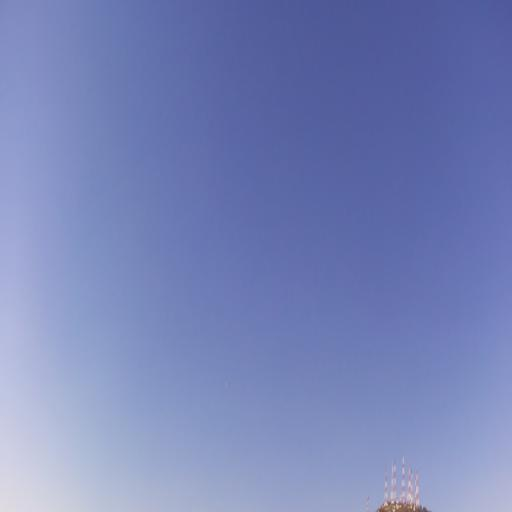drones: (223, 378, 230, 389)
